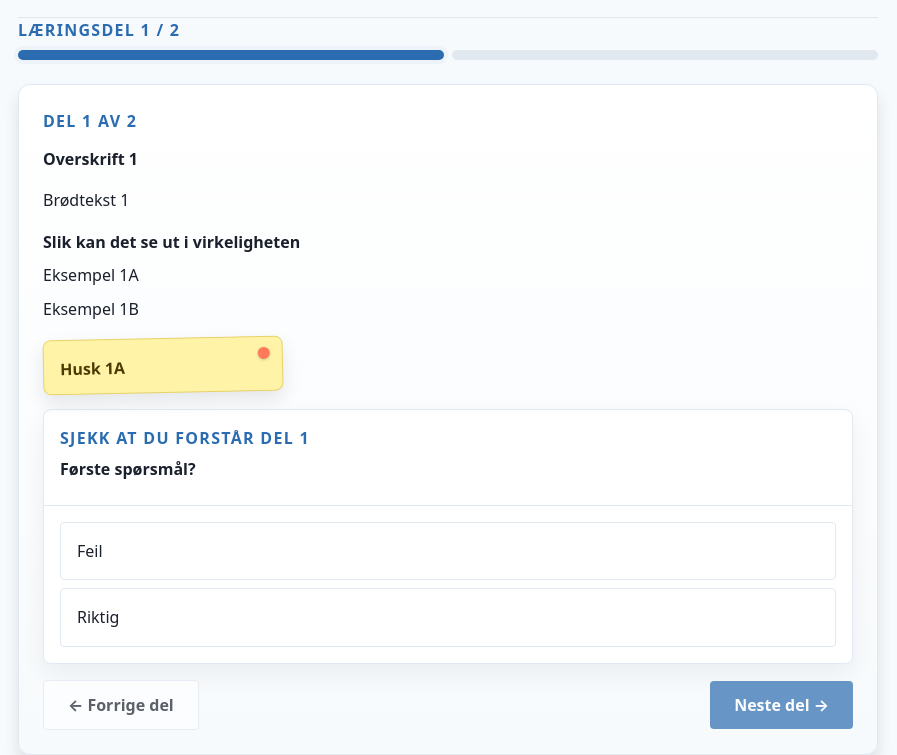
Test: LearningTask › marks an inline correct answer and unlocks the next section
The image size is (897, 755).
(page scrolled)
Click the button with class "option-btn" showing "Riktig". click: coordinates (98, 617)
box: [60,588,836,647]
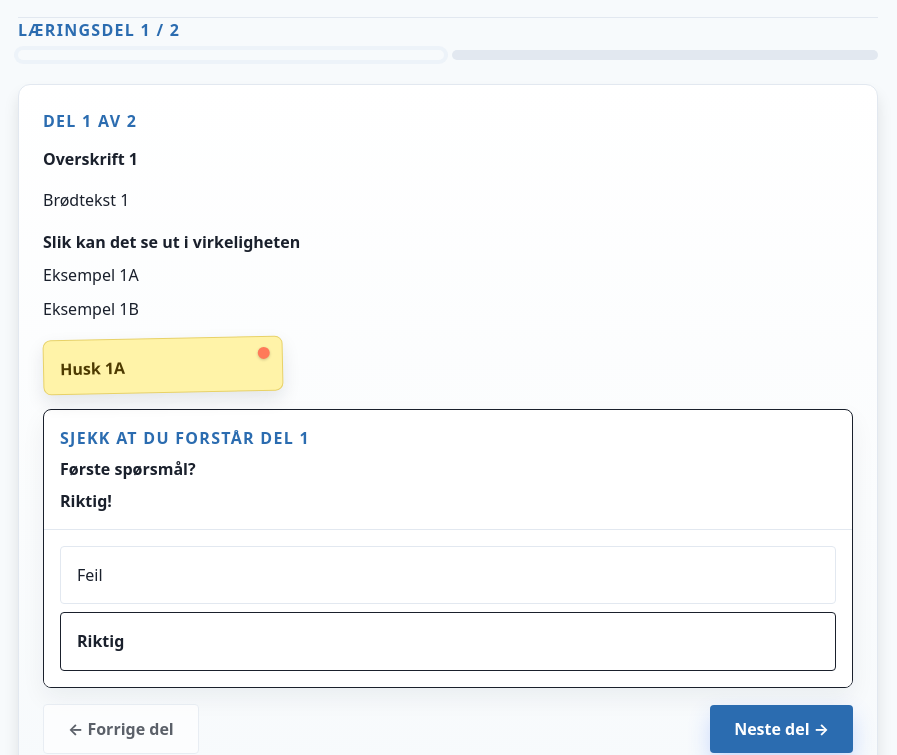
Result: the button with class "option-btn--correct" is shown at [60,612,836,671]
Result: the text "Riktig!" is shown at [60,490,112,512]
Result: the button with class "nav-btn--primary" is enabled
Click the button with class "nav-btn--primary". click: coordinates (782, 729)
box: [710,705,853,753]
(page scrolled)
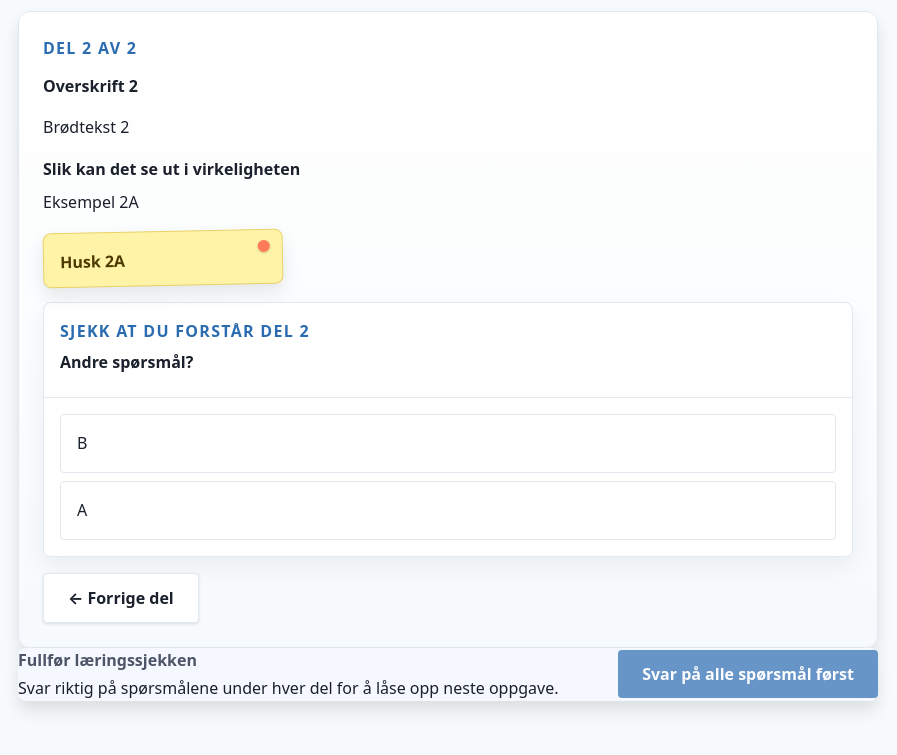
Result: the text "Overskrift 2" is shown at [43,75,138,97]
Result: the text "Andre spørsmål?" is shown at [60,351,193,373]
